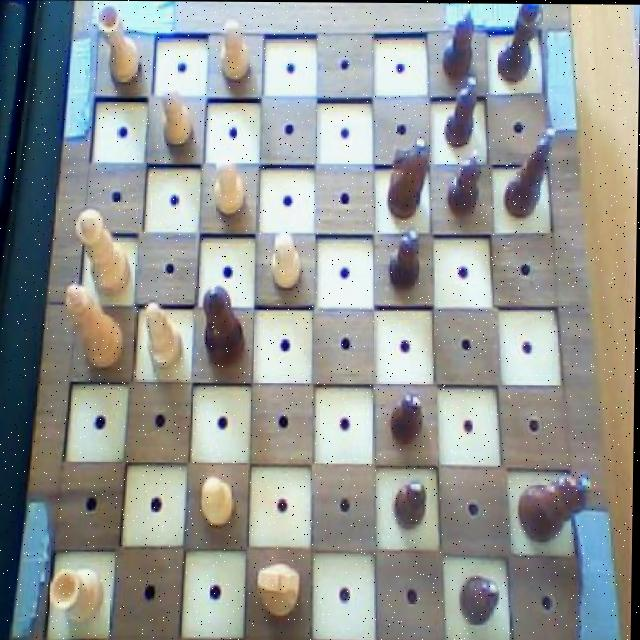bishop: (503, 121, 558, 223)
black-bishop: (516, 468, 598, 543)
black-king: (380, 136, 434, 224)
black-knight: (437, 3, 480, 88), (458, 569, 507, 626), (387, 224, 427, 291), (388, 387, 426, 451), (392, 475, 428, 531)
black-pawn: (202, 279, 248, 365)
black-queen: (497, 3, 546, 84)
black-rook: (143, 293, 187, 371)
white-bishop: (60, 279, 126, 370)
white-king: (256, 557, 306, 618)
white-knight: (216, 15, 255, 86), (158, 84, 199, 150), (210, 152, 247, 218), (271, 228, 307, 293), (200, 472, 239, 531)
white-pawn: (74, 206, 133, 300)
white-queen: (94, 1, 146, 92), (50, 562, 107, 627)
